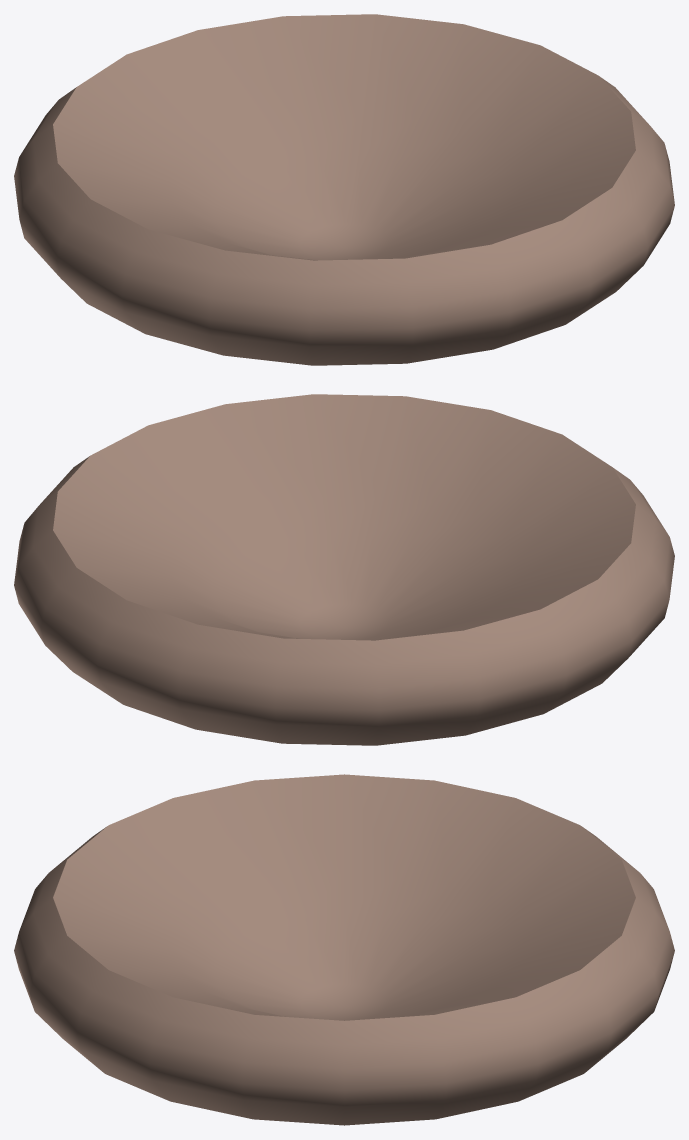
Rendered from BirdsNest.fbx.
The picture shows the model from 3 angles, top to bottom: view 1: azimuth 30°, elevation 25°; view 2: azimuth 150°, elevation 25°; view 3: azimuth 270°, elevation 25°; orthographic projection.
Parts seen in each view (by area): view 1: BirdsNest; view 2: BirdsNest; view 3: BirdsNest.
Boxes of the visible parts, x1=… form: BirdsNest: x1=14, y1=14, x2=674, y2=365; BirdsNest: x1=14, y1=394, x2=674, y2=745; BirdsNest: x1=14, y1=774, x2=674, y2=1125.
Bounding box in the file's own units: 2.76 × 0.5037 × 2.76.
